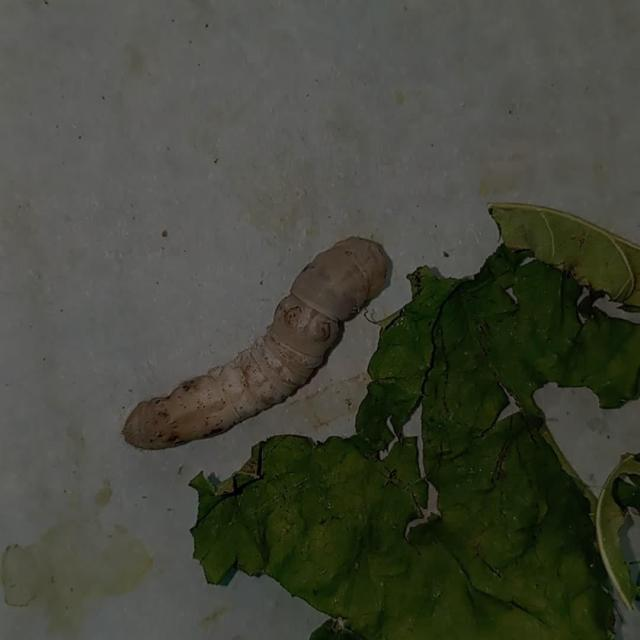Grasserie: (116, 220, 405, 463)
